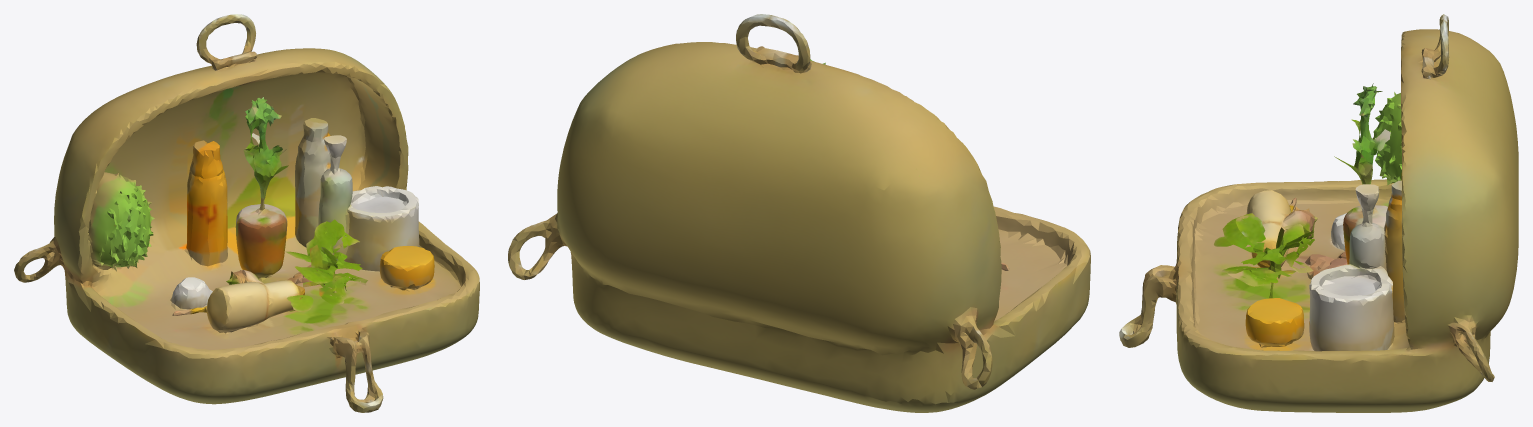
The picture shows the model from 3 angles, left to right: view 1: azimuth 30°, elevation 25°; view 2: azimuth 150°, elevation 25°; view 3: azimuth 270°, elevation 25°; orthographic projection. The views are drawn at different scales.
Visible parts, largest first — view 1: HealingHerbKit; view 2: HealingHerbKit; view 3: HealingHerbKit.
Part boxes in pixels (bbox=[...]): HealingHerbKit: bbox=[14, 14, 479, 412]; HealingHerbKit: bbox=[508, 14, 1090, 412]; HealingHerbKit: bbox=[1119, 14, 1518, 412].
Size of the model in its own units: 1.91 by 1.38 by 1.54.
Materials: 1 (1 with a texture image).
